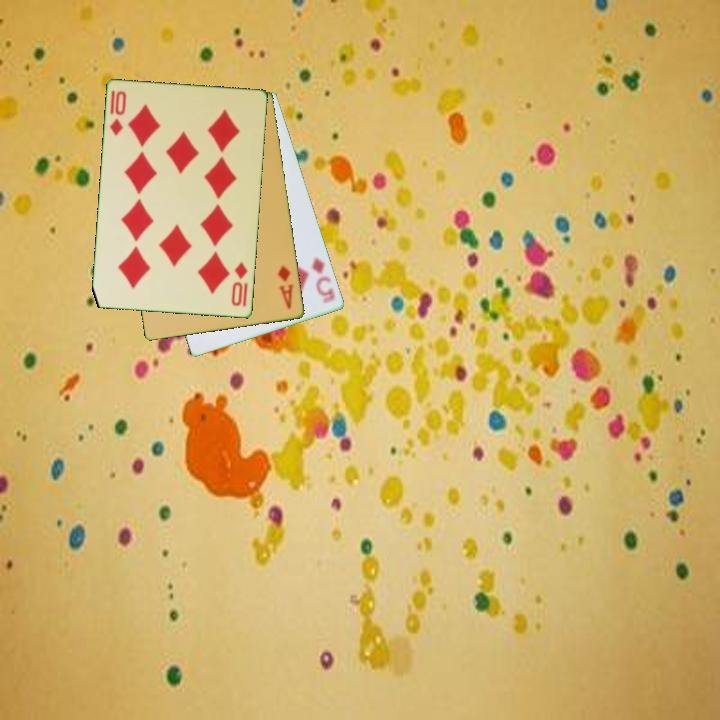10d: (228, 259, 251, 309), (107, 88, 129, 139)
5d: (309, 253, 336, 307)
Ad: (274, 262, 297, 312)
